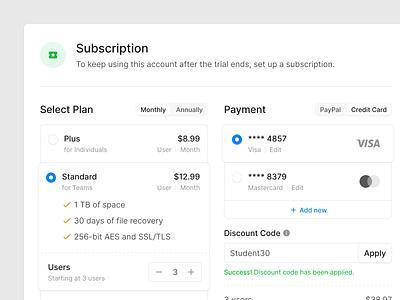button: (225, 201, 393, 220), (359, 245, 392, 264)
input: (226, 245, 359, 263), (149, 263, 203, 282)
label: (223, 228, 280, 238), (248, 132, 288, 145), (248, 172, 290, 182), (63, 173, 99, 183), (46, 263, 74, 274), (64, 135, 84, 146)
radio: (232, 134, 245, 147), (48, 134, 60, 147), (46, 172, 58, 184), (232, 172, 244, 184)
